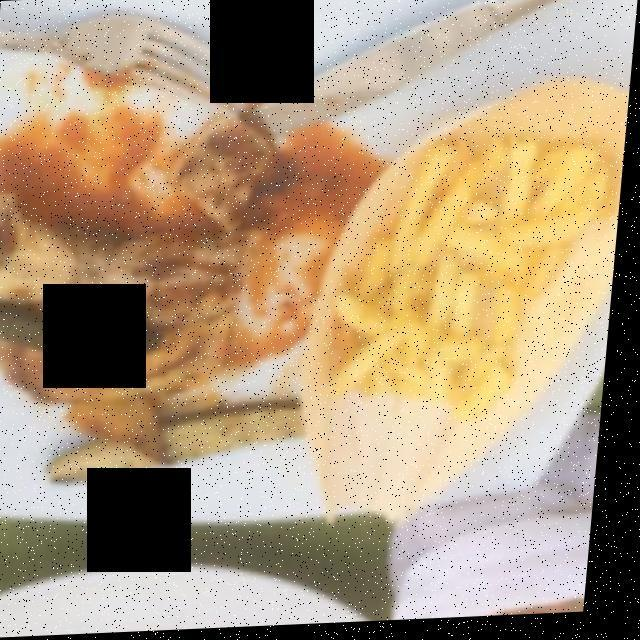chicken-breast: (6, 118, 277, 412)
chips-french-fries: (312, 121, 613, 512)
mixed-vegetables: (0, 296, 307, 492)
tomato-sauce: (0, 100, 347, 403)
